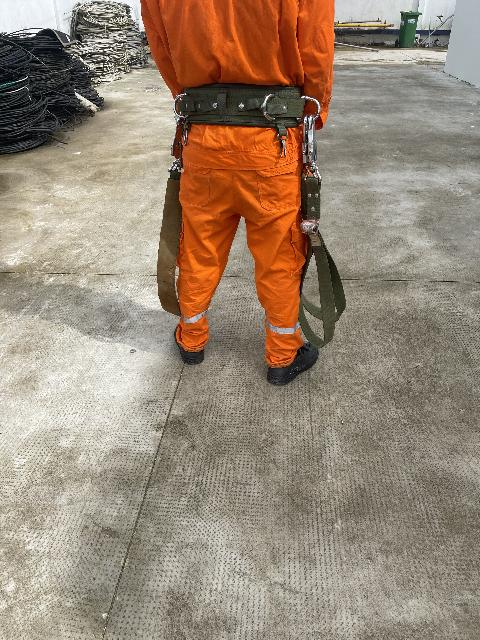harness: (160, 67, 308, 149)
shoes: (246, 314, 335, 393), (162, 321, 213, 382)
